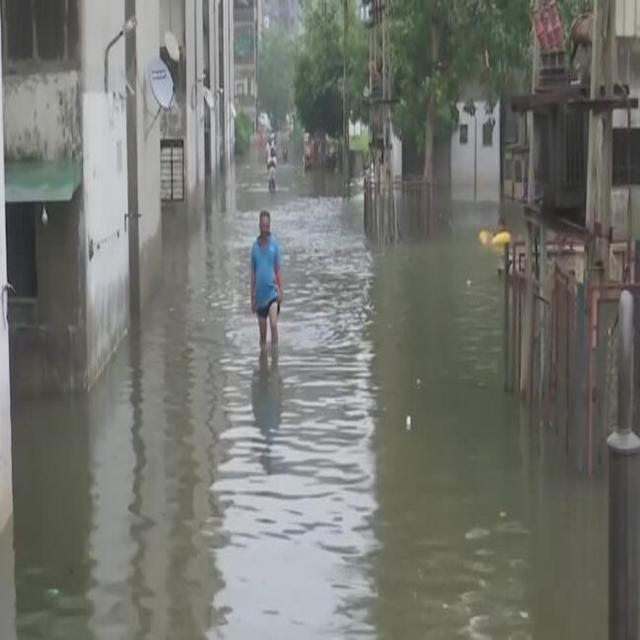Person-RiskLevel2: (237, 210, 291, 358)
